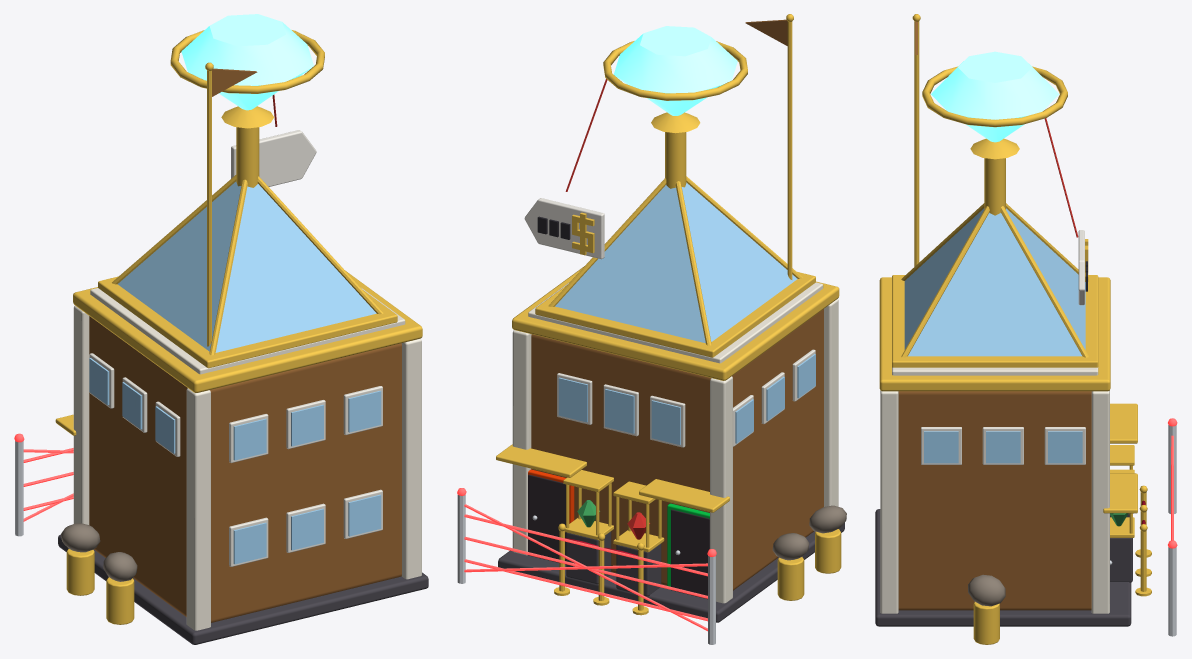
Rendered from building_geology_lab_t3.glb.
3 renders of one model, left to right at view 1: azimuth 30°, elevation 25°; view 2: azimuth 150°, elevation 25°; view 3: azimuth 270°, elevation 25°, orthographic. The views are drawn at different scales.
Parts seen in each view (by area): view 1: Walls, Pyramid, Cornice, Diamond.Crown, Plinth, Pilaster, Pyramid.Sill, Pilaster.002, Pilaster.001, Tag, Roof, Diamond.Girdle (+22 smaller); view 2: Walls, Pyramid, Cornice, Diamond.Crown, Pilaster.001, Plinth, Pyramid.Sill, Pilaster.003, Pilaster, Entry.Leaf, Exit.Leaf, Tag (+35 smaller); view 3: Walls, Pyramid, Cornice, Diamond.Crown, Plinth, Pyramid.Sill, Pilaster.002, Pilaster.003, Diamond.Girdle, Roof, Mast.Pole, Exit.Canopy (+20 smaller).
Part boxes in pixels (bbox=[...]): Walls: bbox=[89, 316, 401, 622]; Pyramid: bbox=[117, 181, 376, 352]; Cornice: bbox=[73, 270, 422, 392]; Diamond.Crown: bbox=[181, 14, 313, 85]; Plinth: bbox=[58, 534, 428, 644]; Pilaster: bbox=[186, 388, 210, 630]; Pyramid.Sill: bbox=[98, 276, 397, 368]; Pilaster.002: bbox=[401, 338, 421, 579]; Pilaster.001: bbox=[73, 305, 89, 524]; Tag: bbox=[231, 130, 316, 186]; Roof: bbox=[90, 287, 405, 374]; Diamond.Girdle: bbox=[170, 30, 324, 93]; Walls: bbox=[531, 309, 823, 590]; Pyramid: bbox=[555, 182, 797, 343]; Cornice: bbox=[512, 266, 839, 380]; Diamond.Crown: bbox=[613, 26, 737, 93]; Pilaster.001: bbox=[710, 376, 732, 603]; Plinth: bbox=[498, 522, 844, 622]; Pyramid.Sill: bbox=[535, 272, 815, 357]; Pilaster.003: bbox=[512, 330, 531, 555]; Pilaster: bbox=[824, 299, 838, 506]; Entry.Leaf: bbox=[671, 509, 709, 599]; Exit.Leaf: bbox=[528, 474, 566, 564]; Tag: bbox=[524, 198, 604, 259]; Walls: bbox=[898, 391, 1091, 610]; Pyramid: bbox=[904, 208, 1085, 356]; Cornice: bbox=[879, 277, 1110, 391]; Diamond.Crown: bbox=[931, 51, 1059, 119]; Plinth: bbox=[875, 509, 1131, 626]; Pyramid.Sill: bbox=[892, 275, 1098, 367]; Pilaster.002: bbox=[880, 390, 898, 613]; Pilaster.003: bbox=[1091, 390, 1109, 613]; Diamond.Girdle: bbox=[922, 66, 1067, 127]; Roof: bbox=[892, 367, 1098, 375]; Mast.Pole: bbox=[914, 21, 919, 266]; Exit.Canopy: bbox=[1103, 473, 1137, 513].
Bounding box in the file's own units: 4.21 × 6.99 × 3.66.
